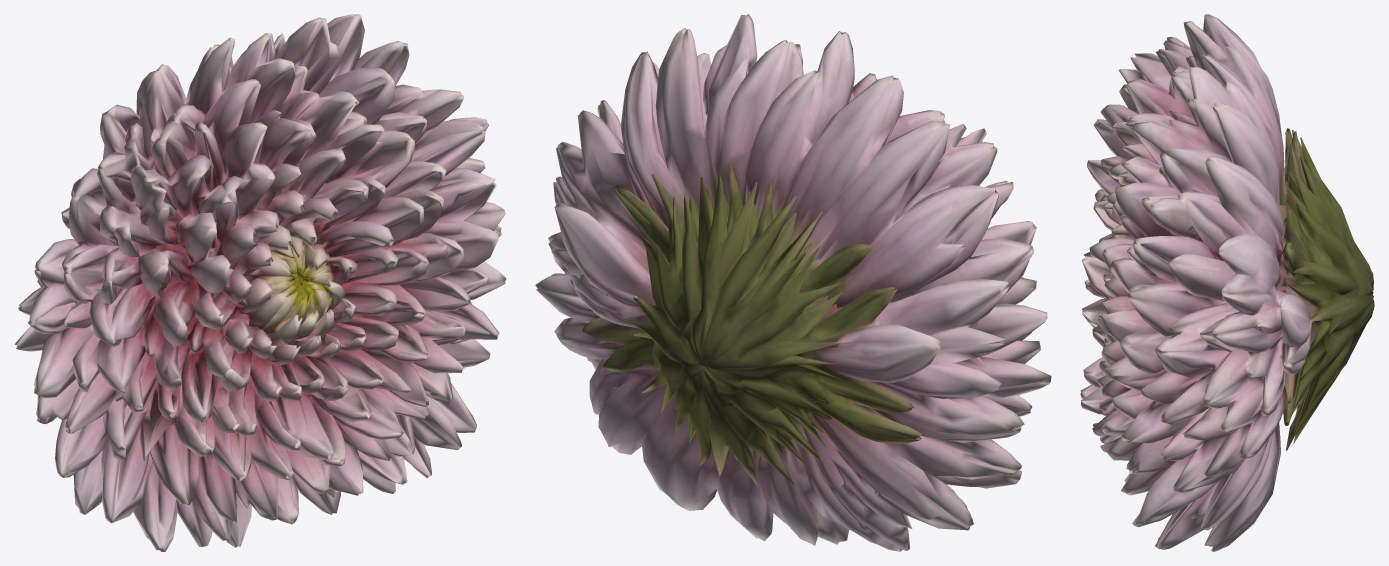
File: fl-flower-chrysanthemum-spray.glb
3 renders of one model, left to right at view 1: azimuth 30°, elevation 25°; view 2: azimuth 150°, elevation 25°; view 3: azimuth 270°, elevation 25°, orthographic. The views are drawn at different scales.
Visible parts, largest first — view 1: node_0; view 2: node_0; view 3: node_0.
Part boxes in pixels (x1,y1,x2,y2): node_0: [14, 14, 506, 551]; node_0: [535, 14, 1051, 551]; node_0: [1080, 14, 1374, 551].
Bounding box in the file's own units: 1.1 × 1.1 × 0.6156.
Materials: 1 (1 with a texture image).
